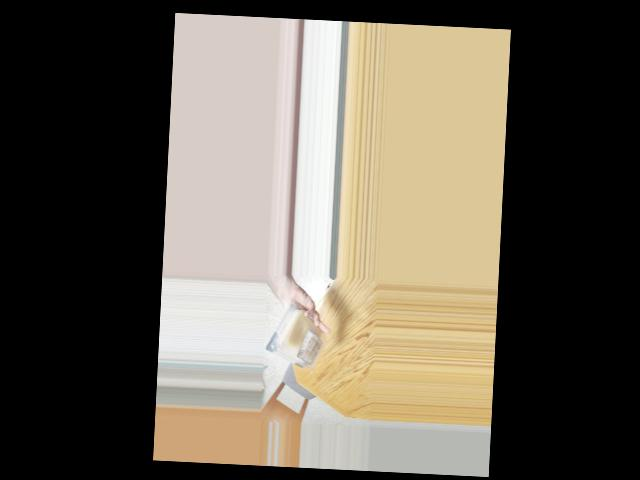cheese: (269, 301, 318, 370)
